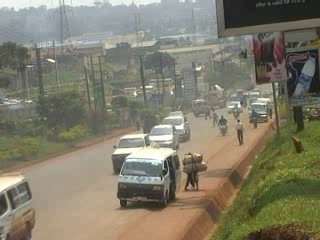Car: (110, 131, 151, 175), (148, 123, 181, 152), (162, 114, 191, 143), (140, 112, 163, 133), (226, 97, 242, 115), (168, 110, 190, 121)
Motorcycle: (217, 121, 226, 136), (232, 107, 241, 121)
